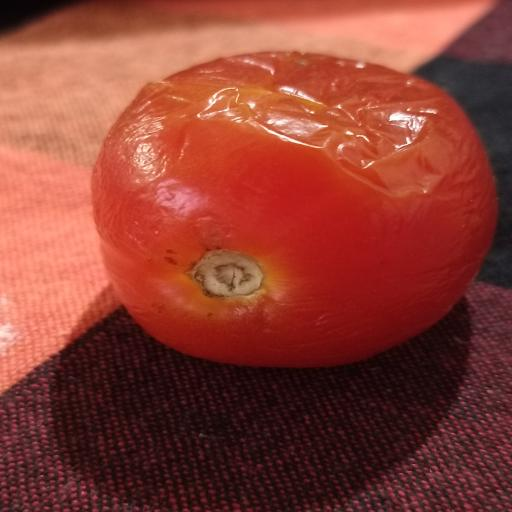spoiled: (93, 52, 496, 367)
